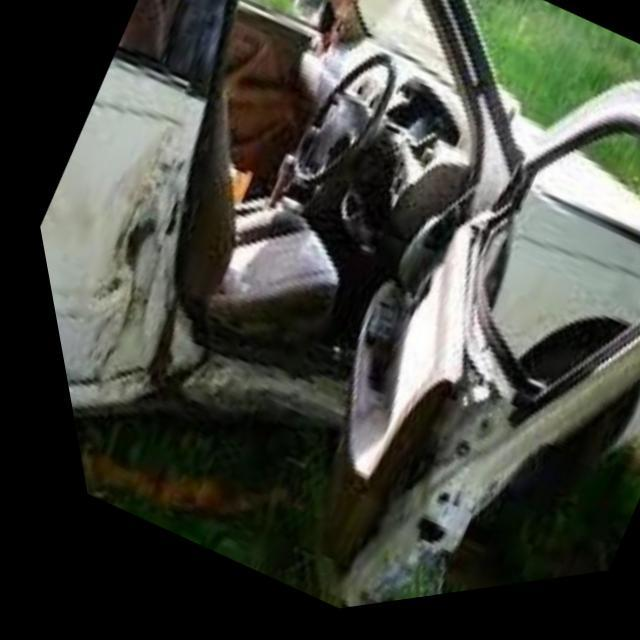dislocated part: (64, 112, 640, 615)
